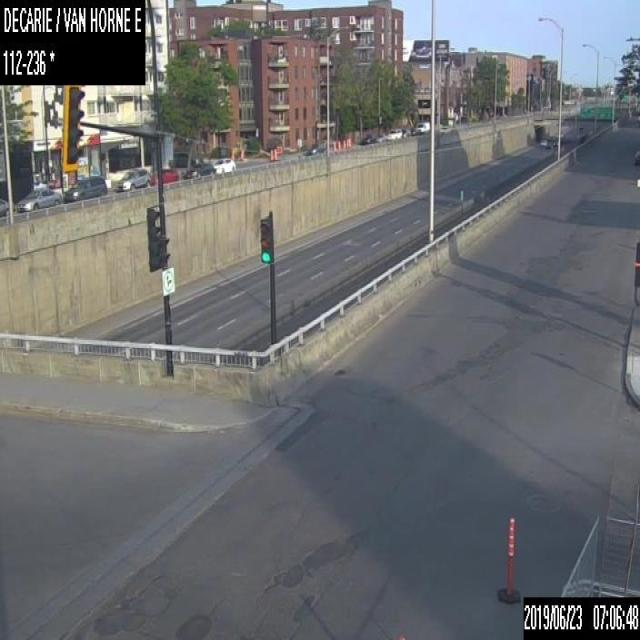construction: (496, 514, 520, 602), (239, 148, 244, 161), (273, 147, 277, 160), (269, 148, 273, 160), (333, 138, 336, 150), (345, 137, 348, 148), (342, 138, 345, 148), (337, 140, 340, 149), (348, 137, 350, 147)
vehicle: (64, 175, 107, 200), (14, 187, 60, 210), (116, 165, 150, 191), (180, 160, 212, 179), (150, 166, 177, 182), (211, 157, 234, 175), (308, 140, 326, 153), (385, 127, 402, 140), (417, 120, 429, 133), (360, 134, 375, 144), (0, 197, 7, 213), (401, 126, 409, 137), (439, 124, 449, 131), (539, 138, 547, 146), (409, 126, 416, 134)
